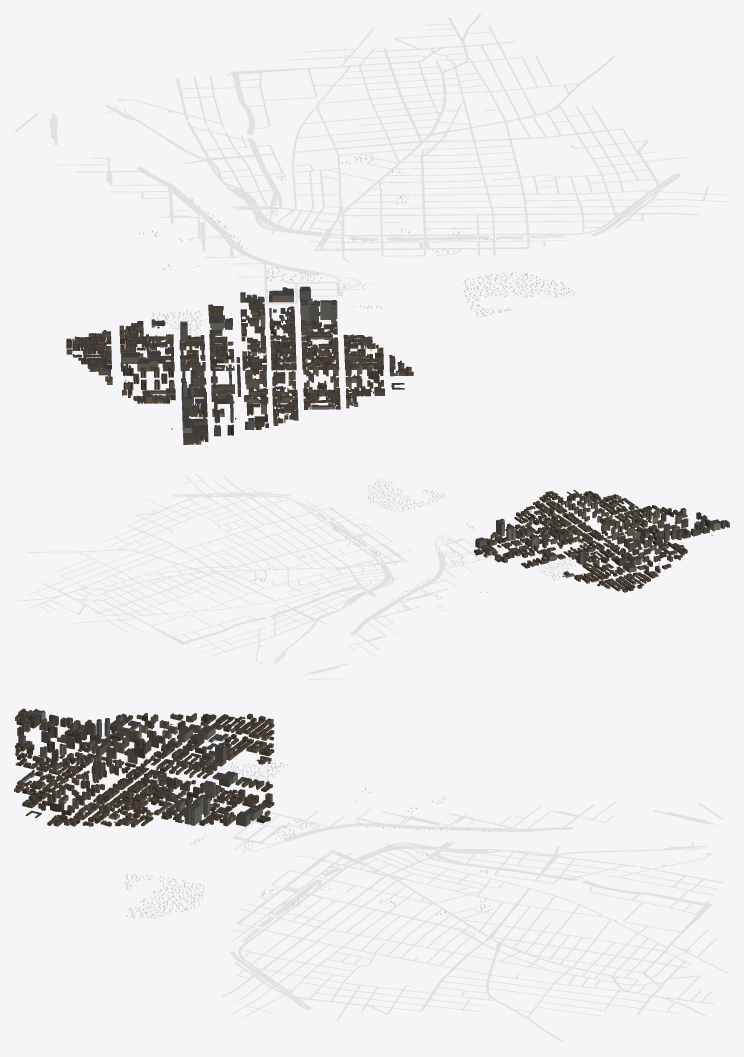
The model's file is manhattan_+01_+01.glb.
3 renders of one model, top to bottom at view 1: azimuth 30°, elevation 25°; view 2: azimuth 150°, elevation 25°; view 3: azimuth 270°, elevation 25°, orthographic. The views are drawn at different scales.
Visible parts, largest first — view 1: ROAD_+01_+01, BLD_lowrise_+01_+01, BLD_midrise_+01_+01, TREE_+01_+01, BLD_towers_+01_+01; view 2: ROAD_+01_+01, BLD_lowrise_+01_+01, BLD_midrise_+01_+01, TREE_+01_+01, BLD_towers_+01_+01; view 3: ROAD_+01_+01, BLD_lowrise_+01_+01, BLD_midrise_+01_+01, TREE_+01_+01, BLD_towers_+01_+01.
Part boxes in pixels (x1=…): ROAD_+01_+01: x1=14, y1=14, x2=729, y2=304; BLD_lowrise_+01_+01: x1=66, y1=287, x2=413, y2=444; BLD_midrise_+01_+01: x1=95, y1=286, x2=379, y2=444; TREE_+01_+01: x1=139, y1=154, x2=574, y2=336; BLD_towers_+01_+01: x1=180, y1=300, x2=337, y2=403; ROAD_+01_+01: x1=14, y1=473, x2=500, y2=679; BLD_lowrise_+01_+01: x1=474, y1=489, x2=724, y2=592; BLD_midrise_+01_+01: x1=475, y1=493, x2=729, y2=576; TREE_+01_+01: x1=255, y1=479, x2=575, y2=611; BLD_towers_+01_+01: x1=496, y1=518, x2=669, y2=564; ROAD_+01_+01: x1=221, y1=801, x2=729, y2=1042; BLD_lowrise_+01_+01: x1=14, y1=713, x2=274, y2=827; BLD_midrise_+01_+01: x1=17, y1=708, x2=272, y2=826; TREE_+01_+01: x1=126, y1=762, x2=492, y2=918; BLD_towers_+01_+01: x1=96, y1=718, x2=226, y2=825.
Size of the model in its own units: 4241 by 104 by 3913.
